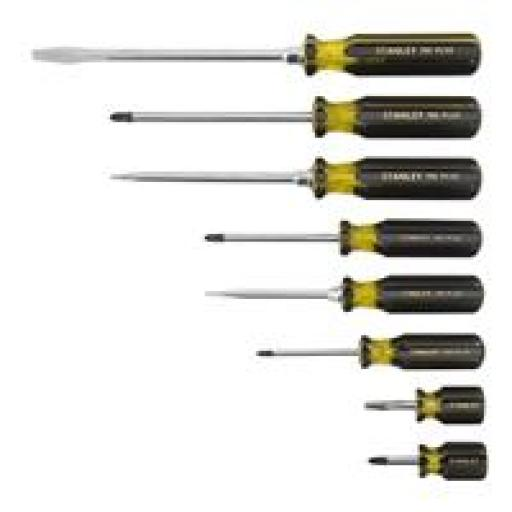screwdriver: (32, 33, 481, 78), (108, 95, 481, 139), (110, 156, 483, 199), (204, 274, 484, 316), (204, 218, 482, 257), (255, 332, 486, 372), (364, 383, 486, 427), (368, 440, 487, 484)
